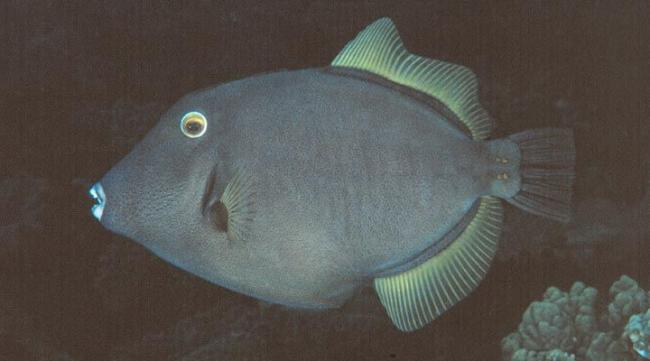fish: (90, 18, 577, 333)
